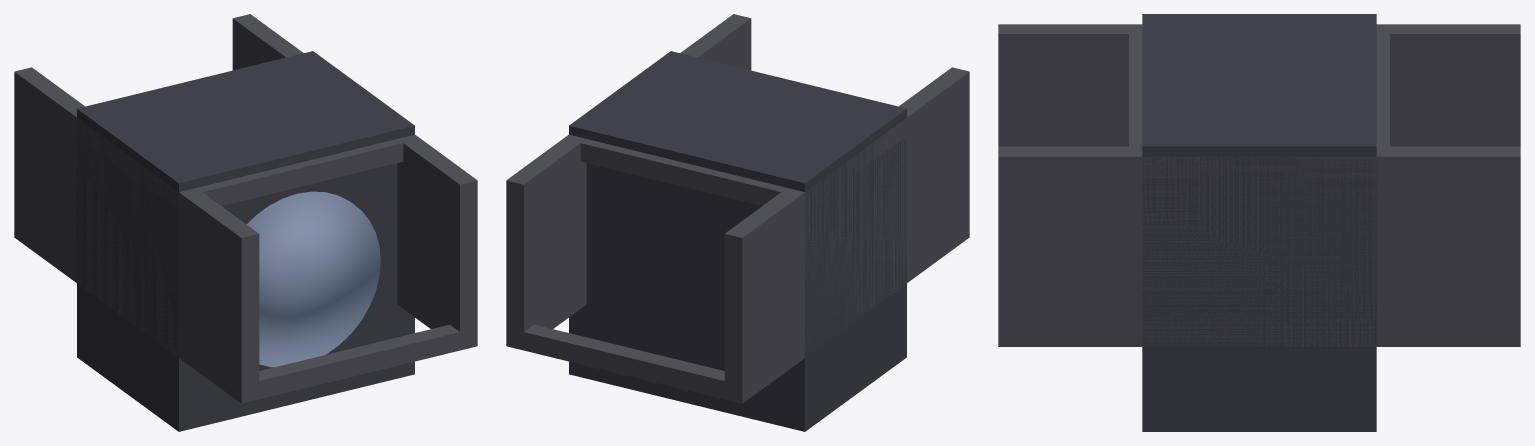
The model's file is aputure_storm_1200x.glb.
The picture shows the model from 3 angles, left to right: view 1: azimuth 30°, elevation 25°; view 2: azimuth 150°, elevation 25°; view 3: azimuth 270°, elevation 25°; orthographic projection. The views are drawn at different scales.
Parts seen in each view (by area): view 1: aputure_storm_1200x; view 2: aputure_storm_1200x; view 3: aputure_storm_1200x.
Boxes of the visible parts, x1=… form: aputure_storm_1200x: x1=14, y1=14, x2=477, y2=431; aputure_storm_1200x: x1=506, y1=14, x2=969, y2=431; aputure_storm_1200x: x1=998, y1=14, x2=1520, y2=431.
Bounding box in the file's own units: 0.334 × 0.336 × 0.557.
